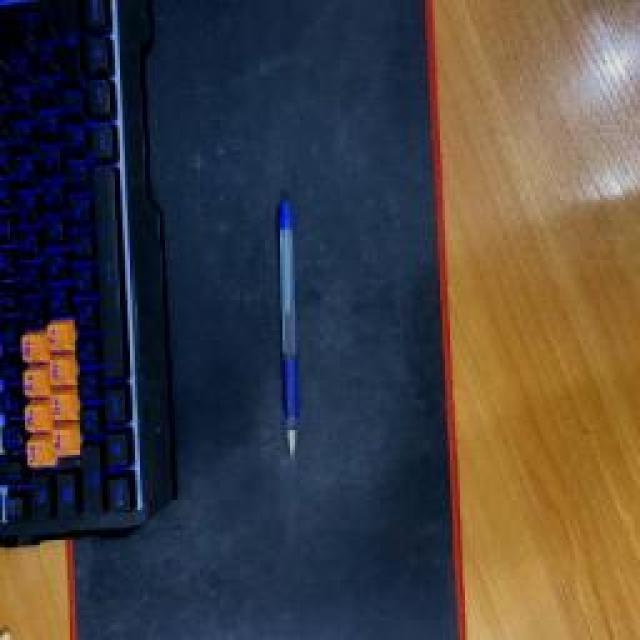pen: (275, 200, 303, 460)
